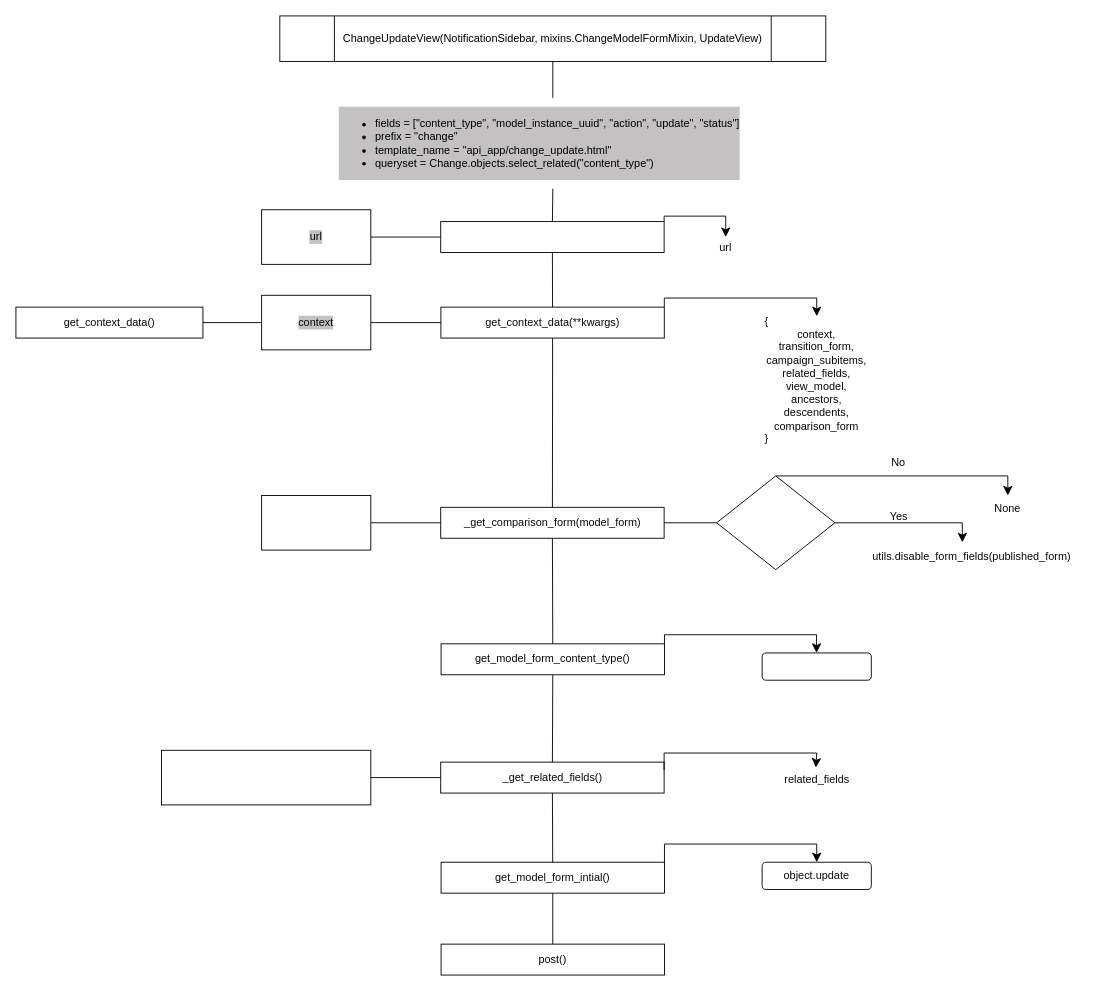
Some shapes in this 1097 by 991 pixel diagram are drawn without their labels. The shapes that lost their labels are listed below. From the top down, each one's centre as x and y in pixels, then its label:
the point at 552,237: get_success_url()
the point at 316,522: published_form
the point at 775,522: object.action changed
the point at 816,666: object.content_type
the point at 266,777: related_fields { }
